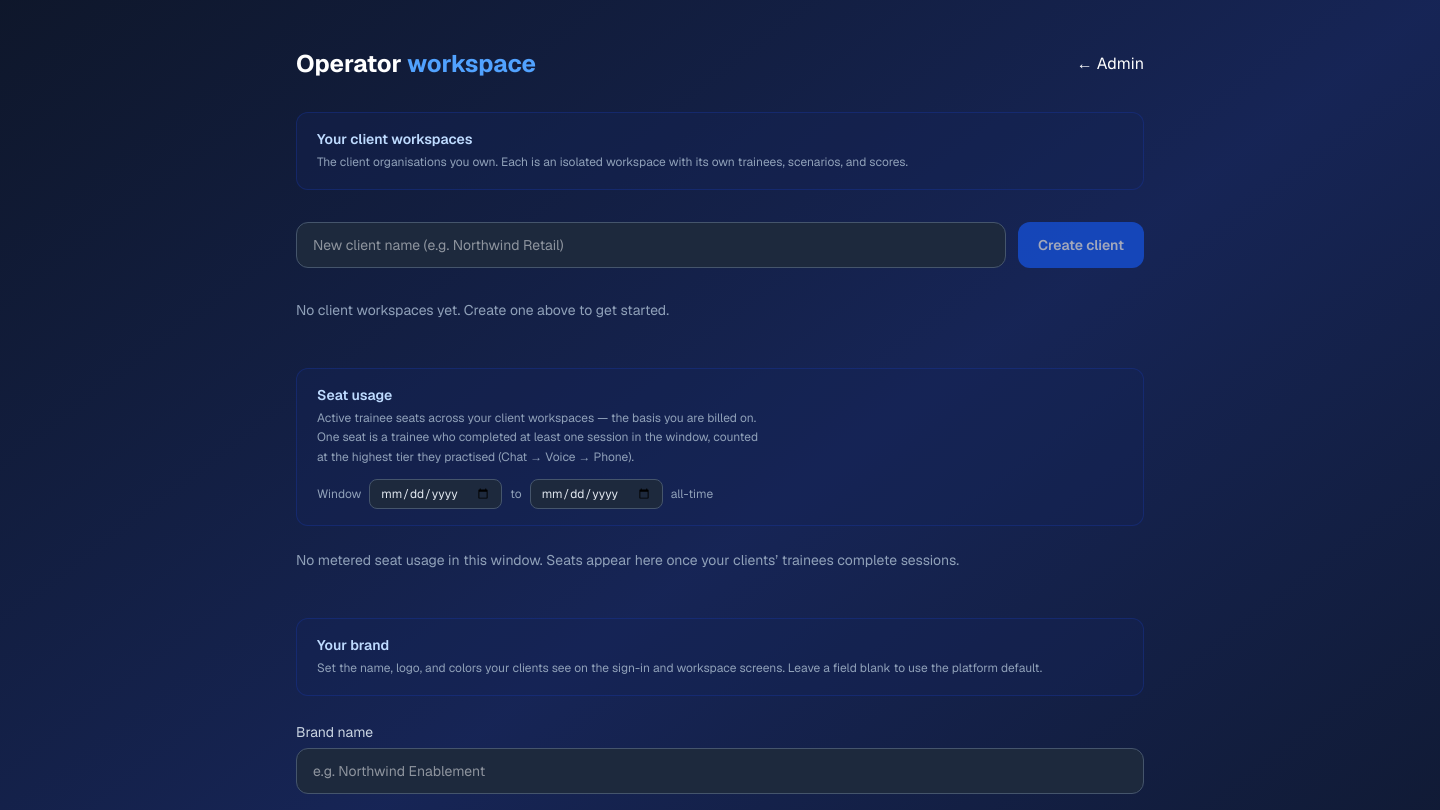
it: Operator workspace — operator view › creates a client (POST) and reloads the list
Check: the text "No client workspaces yet. Create one above to get started." is shown, box [296,300,669,318]
Type "Globex" into the field labelled "New client name" at (651, 244), box [296,222,1006,268]
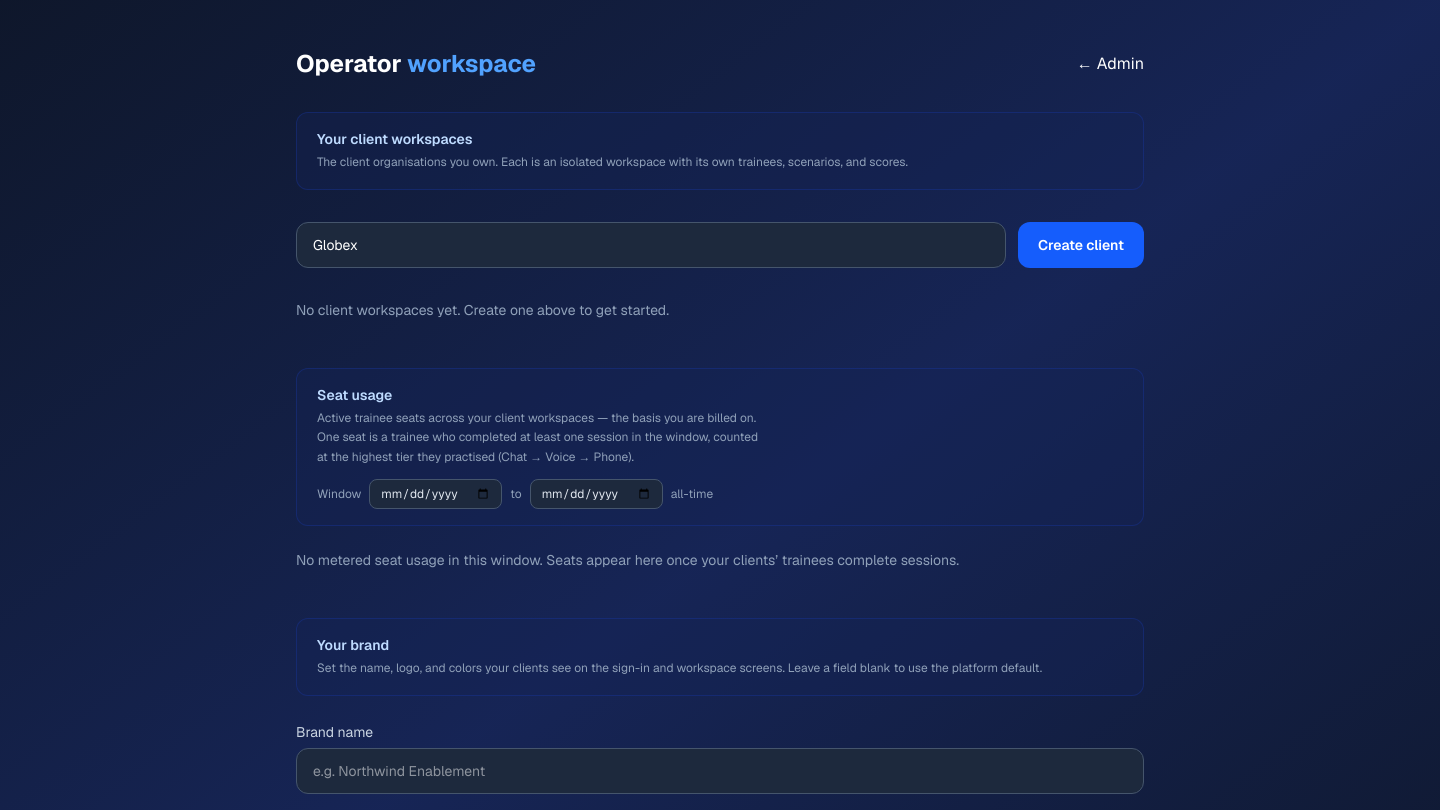
Click the button "Create client" at (1081, 244), box [1018,222,1144,268]
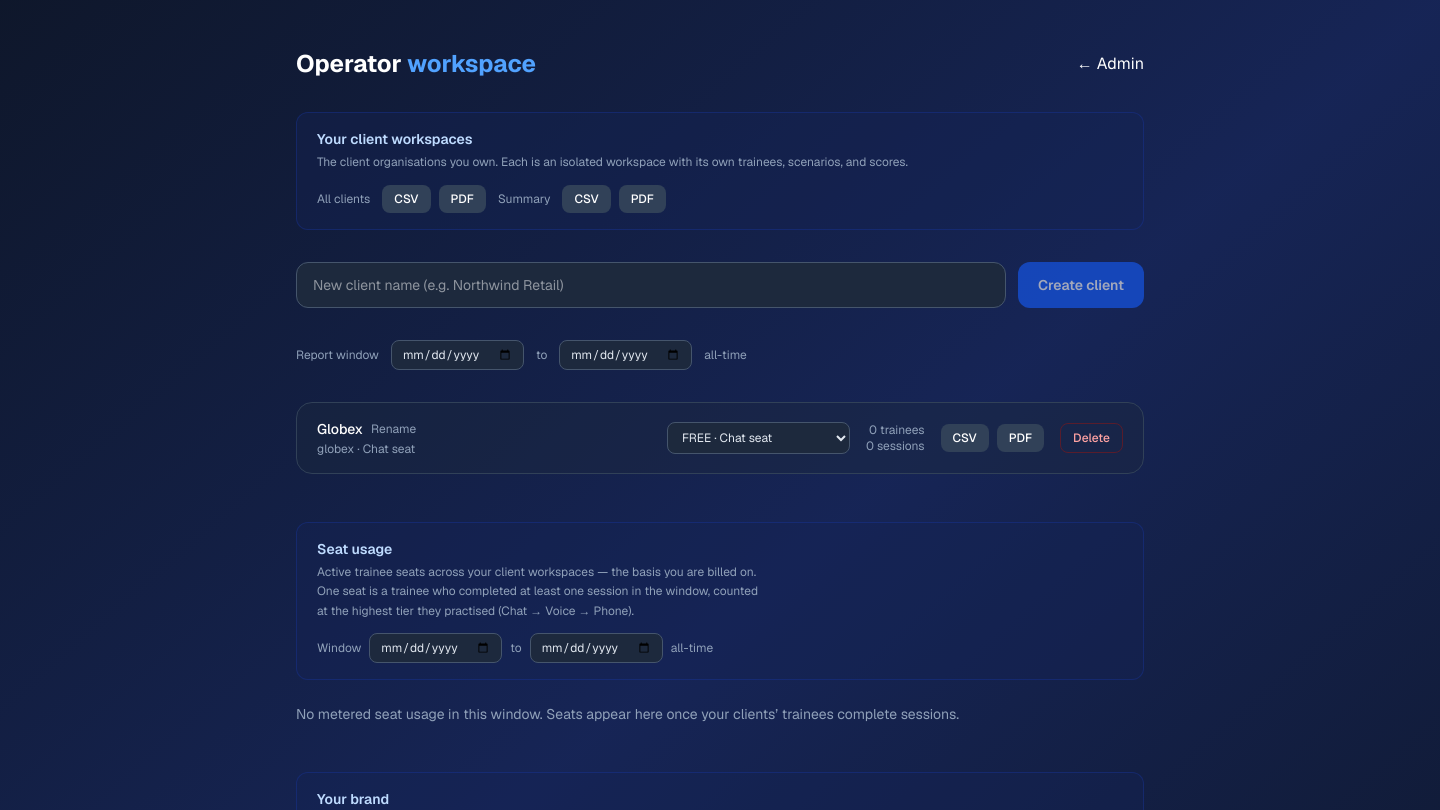
Check: the text "Globex" is shown, box [317,418,363,438]
